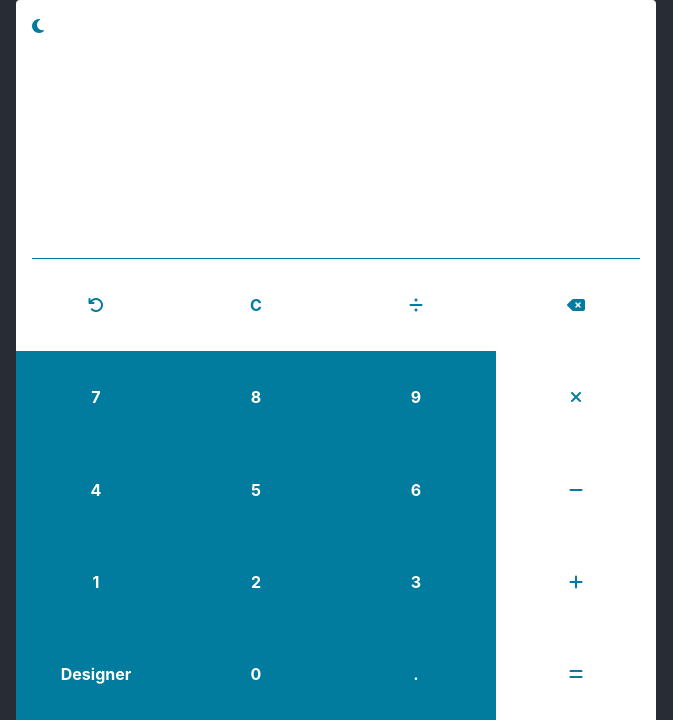
Test case: Calculator app Interface › results interface › equal sign should not render until there is a result
What coordinates should you click on to do the following:
click the button with test id "input-button-9"
I would click on:
 (416, 397)
Its box is left=336, top=351, right=496, bottom=443.
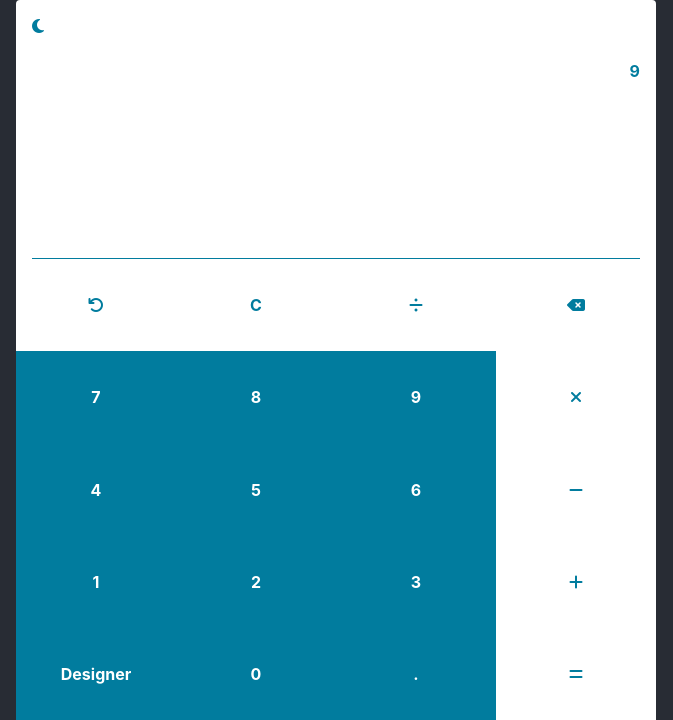
What coordinates should you click on to do the following:
click the button with test id "action-button-equals"
I would click on:
 (576, 674)
Its box is left=496, top=628, right=656, bottom=719.
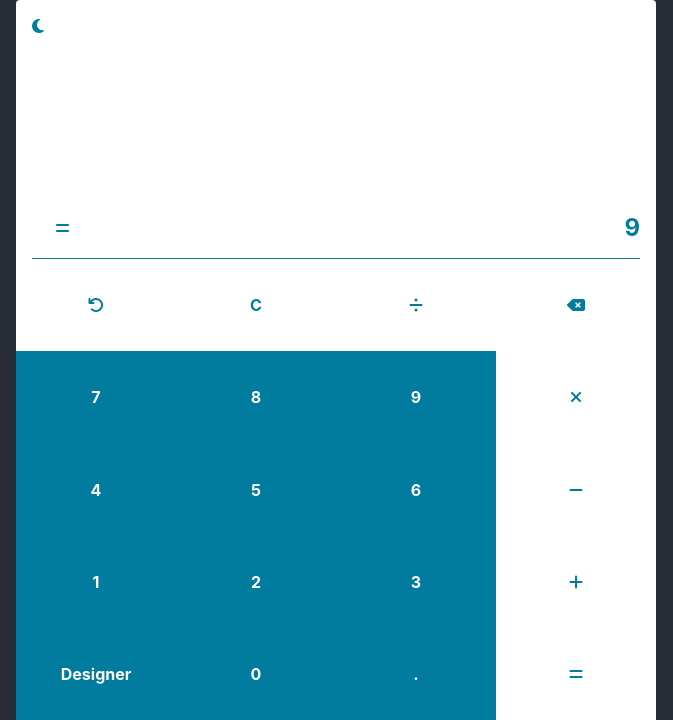
Now the icon with test id "equal-sign-icon" is shown, box left=55, top=220, right=69, bottom=236
